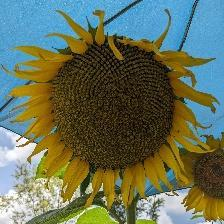sunflower: (37, 37, 194, 182)
